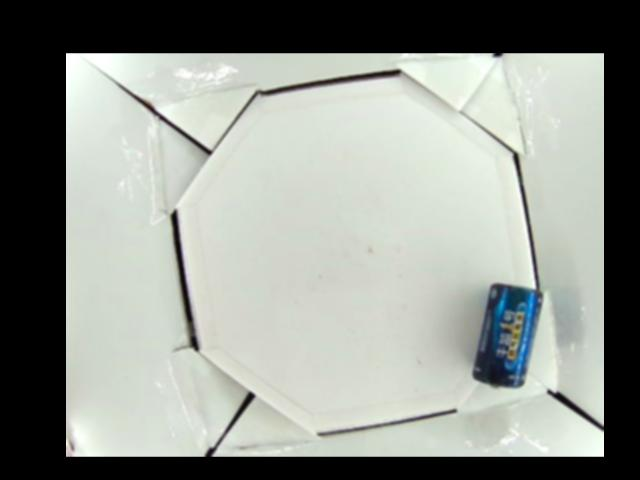Battery: (472, 283, 545, 386)
